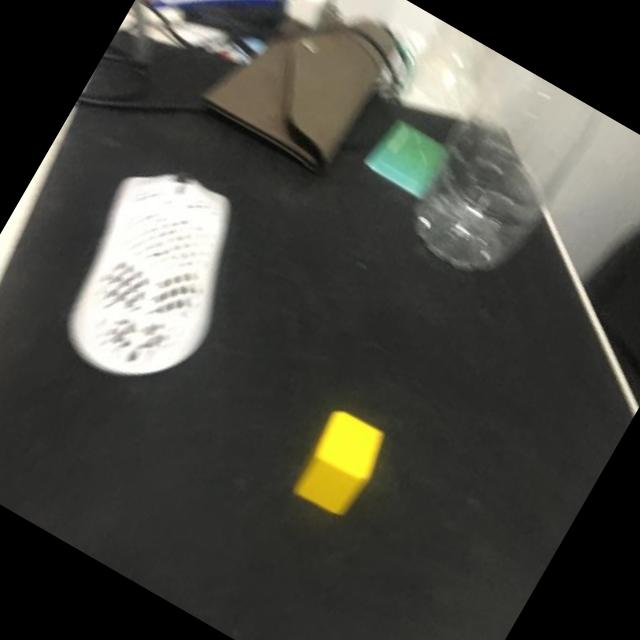yellow: (288, 406, 394, 524)
